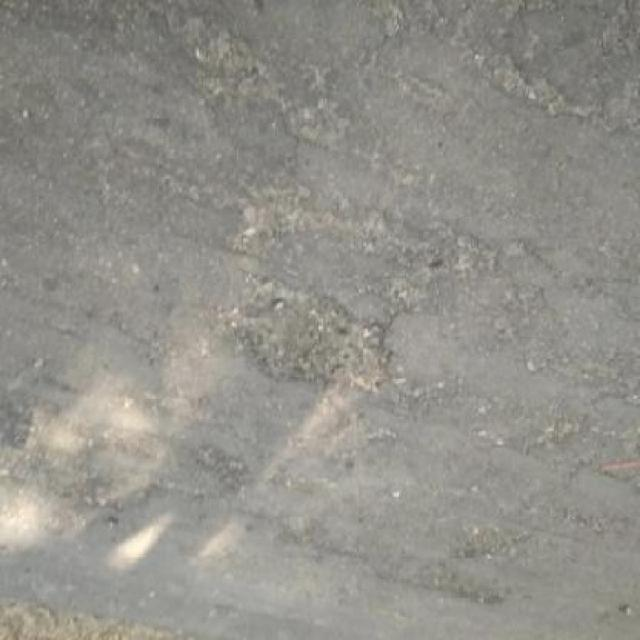pothole: (210, 277, 402, 401)
